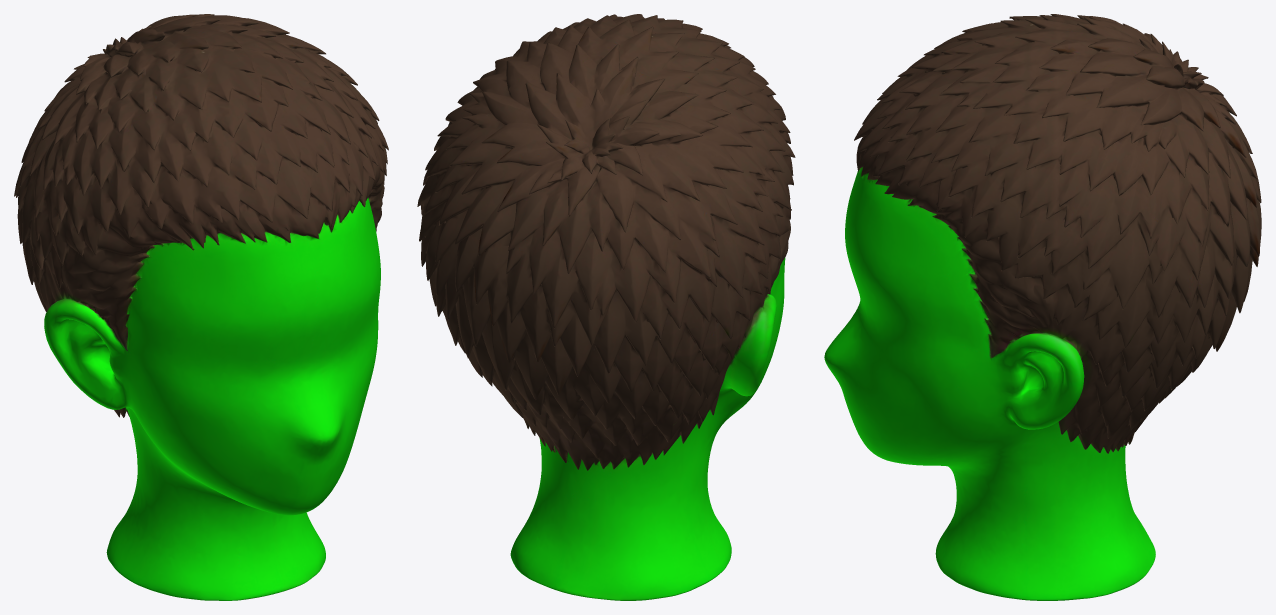
Rendered from hair-haru-buzz-v3.glb.
3 renders of one model, left to right at view 1: azimuth 30°, elevation 25°; view 2: azimuth 150°, elevation 25°; view 3: azimuth 270°, elevation 25°, orthographic.
Parts seen in each view (by area): view 1: tripo_node_93400a59-d2cf-41b4-a0ac-72d6f2d48ff6; view 2: tripo_node_93400a59-d2cf-41b4-a0ac-72d6f2d48ff6; view 3: tripo_node_93400a59-d2cf-41b4-a0ac-72d6f2d48ff6.
Part boxes in pixels (x1,y1,x2,y2): tripo_node_93400a59-d2cf-41b4-a0ac-72d6f2d48ff6: [14, 14, 388, 600]; tripo_node_93400a59-d2cf-41b4-a0ac-72d6f2d48ff6: [417, 14, 795, 600]; tripo_node_93400a59-d2cf-41b4-a0ac-72d6f2d48ff6: [824, 14, 1261, 600].
Size of the model in its own units: 0.6353 by 0.9798 by 0.7365.
Materials: 1 (1 with a texture image).
